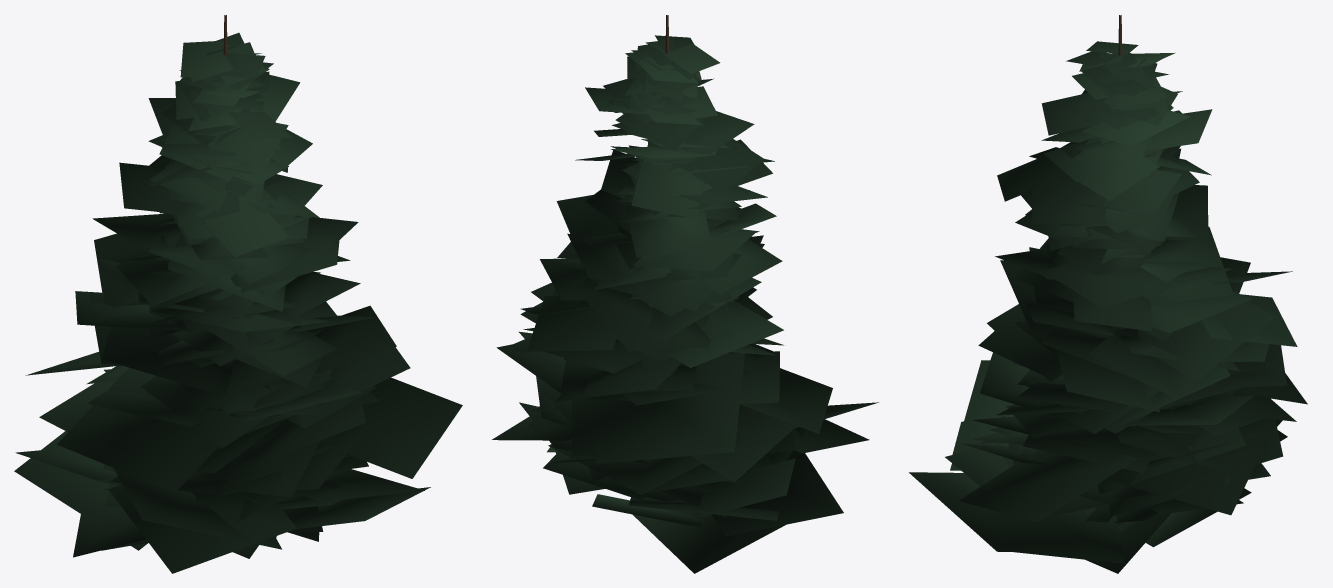
File: SM_Swierk_1.glb
The picture shows the model from 3 angles, left to right: view 1: azimuth 30°, elevation 25°; view 2: azimuth 150°, elevation 25°; view 3: azimuth 270°, elevation 25°; orthographic projection. The views are drawn at different scales.
Visible parts, largest first — view 1: SM_Swierk_1; view 2: SM_Swierk_1; view 3: SM_Swierk_1.
Part boxes in pixels (<box>): SM_Swierk_1: <box>14,15,462,573</box>; SM_Swierk_1: <box>492,15,878,573</box>; SM_Swierk_1: <box>909,15,1307,573</box>.
Bounding box in the file's own units: 13.86 × 19.23 × 13.41.
